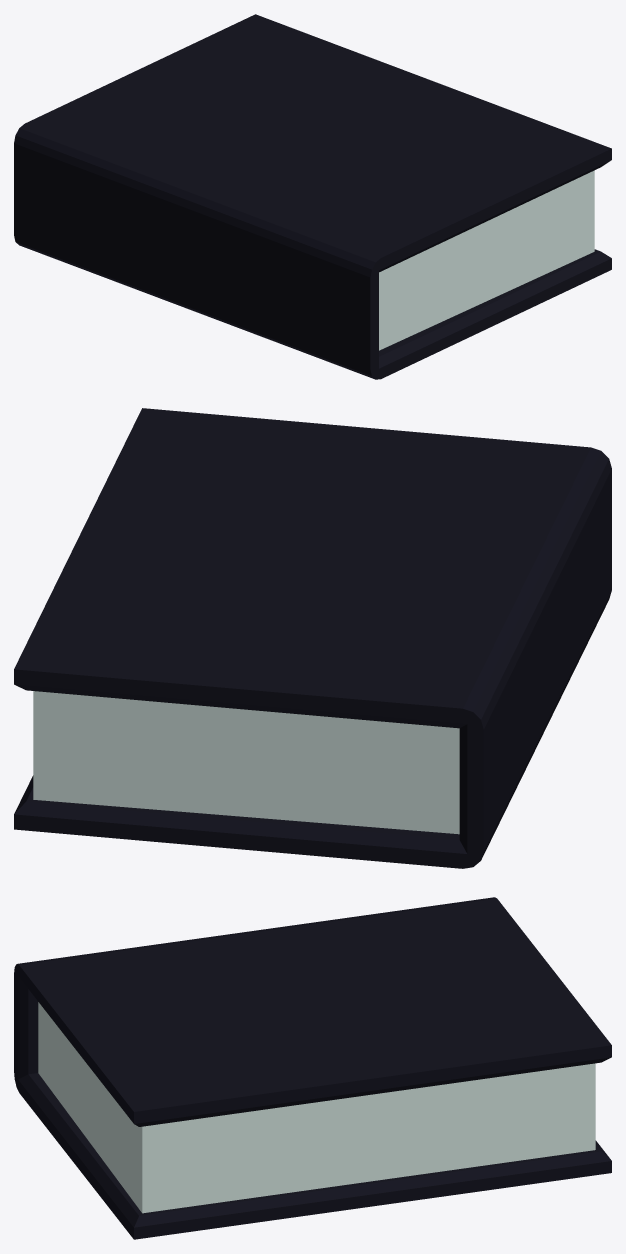
Rendered from book.fbx.
3 renders of one model, top to bottom at view 1: azimuth 30°, elevation 25°; view 2: azimuth 150°, elevation 25°; view 3: azimuth 270°, elevation 25°, orthographic. The views are drawn at different scales.
Visible parts, largest first — view 1: książka; view 2: książka; view 3: książka.
Part boxes in pixels (x1,y1,x2,y2): książka: [14, 14, 611, 379]; książka: [14, 408, 611, 868]; książka: [14, 897, 611, 1239].
Size of the model in its own units: 25.88 by 7 by 29.7.
